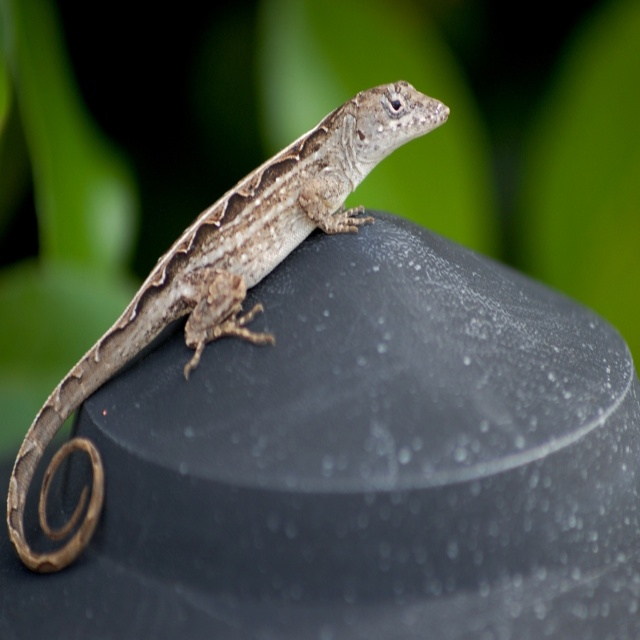Lizard: (6, 78, 450, 576)
